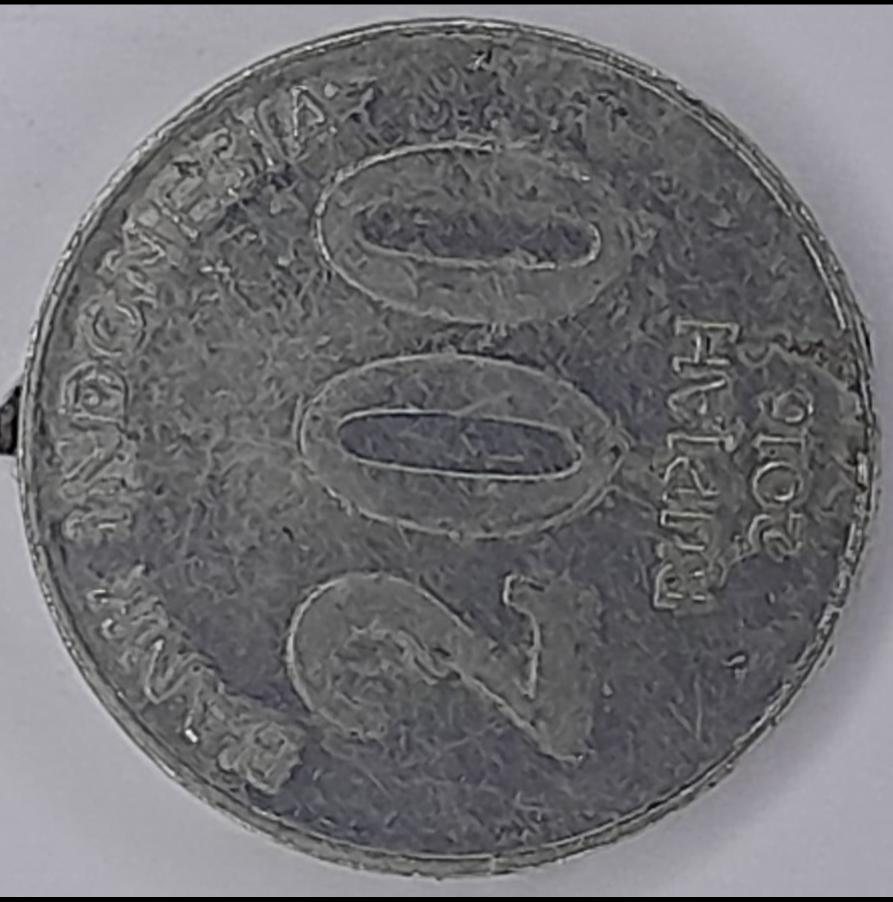coin_200_e2016: (0, 16, 893, 902)
